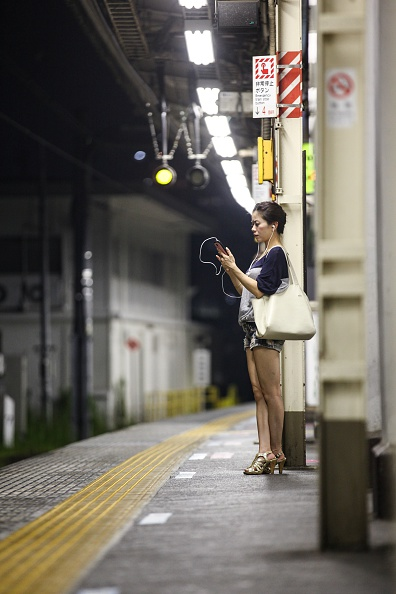em pe: (206, 200, 305, 489)
